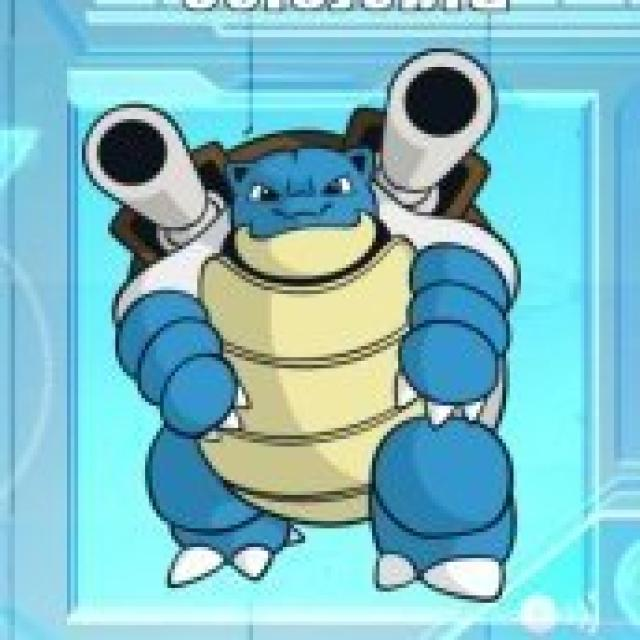Blastoise: (90, 44, 532, 617)
